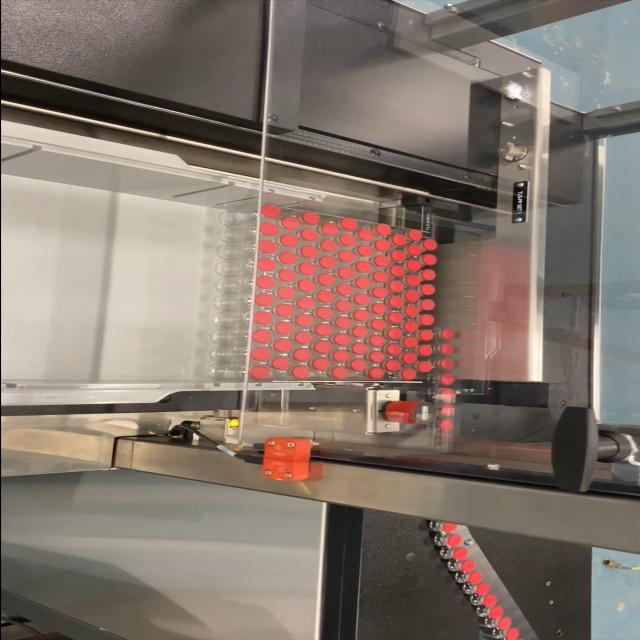vial: (332, 351, 350, 365), (251, 276, 272, 288), (263, 203, 281, 217), (300, 246, 318, 259), (367, 366, 384, 379), (321, 223, 338, 236), (256, 294, 274, 306), (331, 367, 349, 379), (348, 360, 366, 372), (279, 253, 297, 265), (280, 218, 298, 230), (302, 212, 320, 224), (262, 222, 277, 236), (252, 349, 268, 362), (415, 362, 431, 375), (259, 241, 276, 253), (435, 407, 452, 419), (319, 257, 336, 269), (296, 282, 316, 292), (271, 358, 287, 370), (257, 312, 273, 324), (302, 263, 318, 275), (358, 229, 374, 241), (300, 230, 316, 242), (281, 235, 297, 247), (294, 348, 308, 361), (392, 233, 406, 246), (481, 595, 494, 609), (384, 360, 402, 370), (401, 369, 416, 381), (336, 300, 351, 312), (372, 271, 387, 283), (341, 218, 356, 230), (314, 359, 330, 370), (369, 321, 385, 332), (251, 368, 268, 378), (352, 310, 369, 320), (276, 340, 290, 352), (276, 322, 290, 334), (314, 342, 328, 354), (353, 328, 367, 340), (317, 308, 331, 320), (318, 290, 332, 302), (278, 287, 292, 299), (423, 240, 437, 252), (376, 239, 388, 253), (440, 374, 454, 386), (351, 345, 366, 356), (295, 334, 311, 344), (276, 306, 292, 316), (401, 321, 417, 331), (314, 325, 330, 335), (281, 271, 297, 281), (257, 260, 273, 270), (321, 241, 337, 251), (419, 344, 432, 356), (406, 276, 419, 288), (477, 584, 490, 596), (385, 329, 399, 340), (369, 352, 384, 362), (373, 288, 388, 298), (337, 286, 352, 296), (421, 256, 436, 266), (339, 252, 354, 262), (377, 224, 389, 236), (440, 389, 452, 401), (337, 317, 350, 328), (292, 367, 306, 377), (298, 316, 312, 326), (402, 354, 416, 364), (388, 344, 402, 354), (334, 336, 348, 346), (371, 336, 385, 346), (298, 299, 312, 309), (418, 316, 432, 326), (408, 246, 422, 256), (358, 246, 372, 256), (340, 236, 354, 246), (441, 330, 455, 340), (442, 344, 456, 354), (438, 359, 452, 369), (454, 547, 464, 561), (403, 337, 415, 348), (422, 285, 434, 296), (388, 282, 401, 292), (355, 294, 368, 304), (319, 274, 332, 284), (355, 278, 368, 288), (422, 271, 435, 281), (392, 250, 405, 260), (469, 574, 482, 584), (441, 522, 457, 530), (256, 332, 270, 341), (406, 306, 418, 316), (420, 300, 432, 310), (406, 292, 418, 302), (387, 298, 402, 306), (340, 268, 352, 278), (357, 262, 369, 272), (450, 534, 460, 546), (462, 562, 474, 572), (371, 306, 385, 314), (376, 256, 386, 267), (491, 608, 502, 618), (392, 266, 404, 275), (392, 314, 402, 324), (412, 230, 422, 240), (410, 260, 420, 270), (500, 618, 510, 628), (509, 631, 519, 640), (421, 330, 431, 338)
